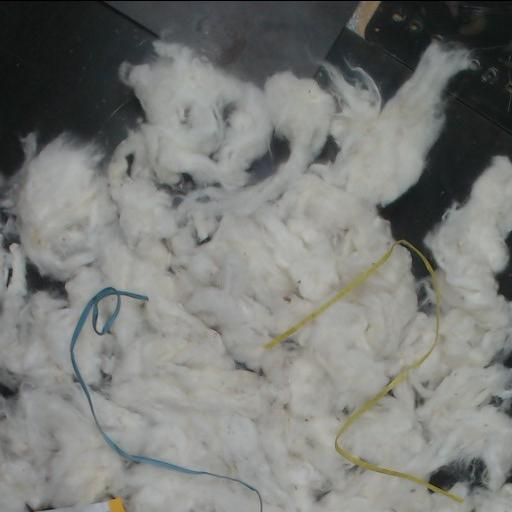conveyor belt: (0, 1, 511, 251), (250, 137, 286, 178), (430, 463, 480, 488), (26, 264, 64, 295), (313, 138, 337, 162), (497, 261, 511, 297), (0, 371, 17, 399)
cotton: (0, 41, 511, 512)
packet: (32, 497, 125, 512)
thread: (264, 239, 462, 502), (70, 287, 262, 512)
